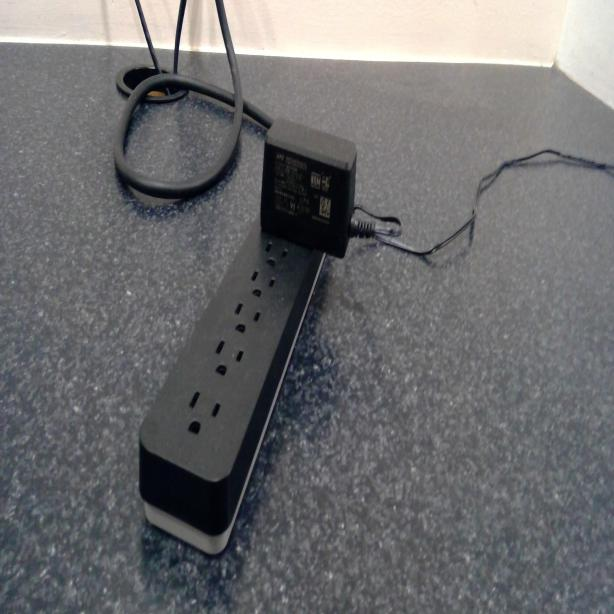typeb: (183, 387, 224, 440), (211, 336, 246, 382), (232, 299, 264, 338), (261, 236, 289, 274), (248, 272, 277, 300)
